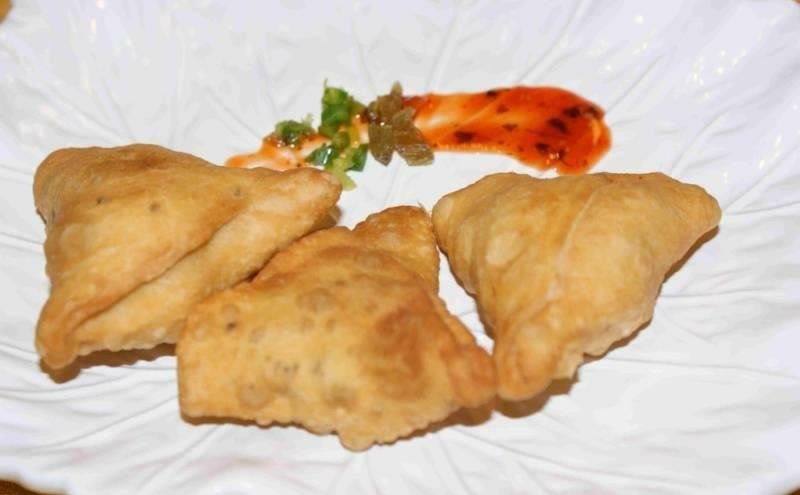Samosa: (28, 149, 365, 376), (176, 204, 489, 447), (433, 171, 720, 408)
